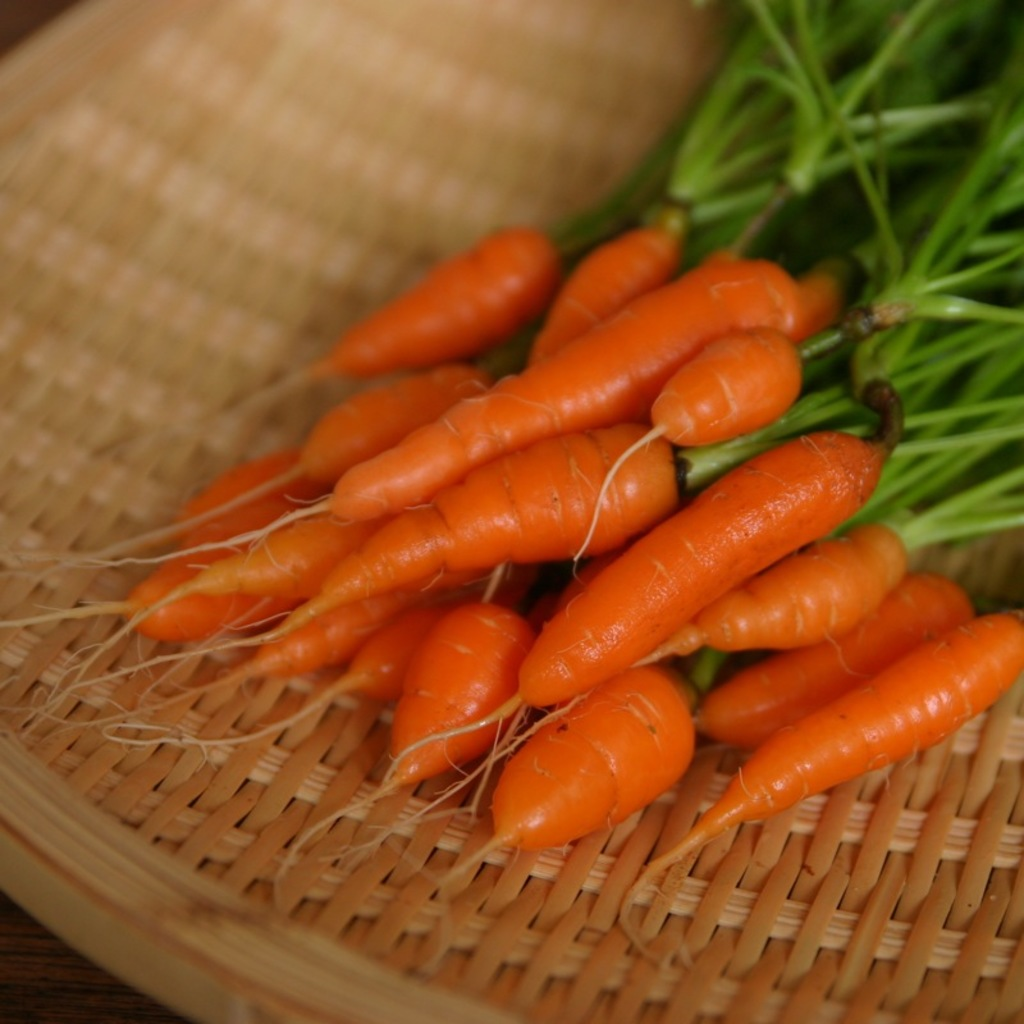Carrot: (0, 225, 1023, 978)
